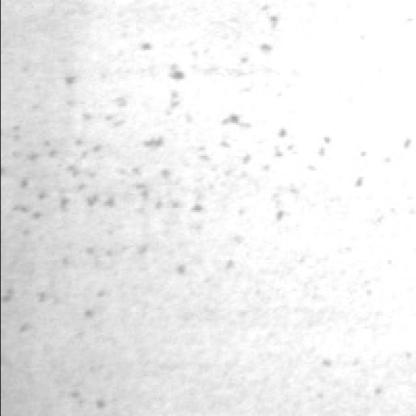pitted_surface: (6, 104, 404, 281), (62, 2, 281, 116), (305, 272, 416, 405), (4, 285, 114, 408)
